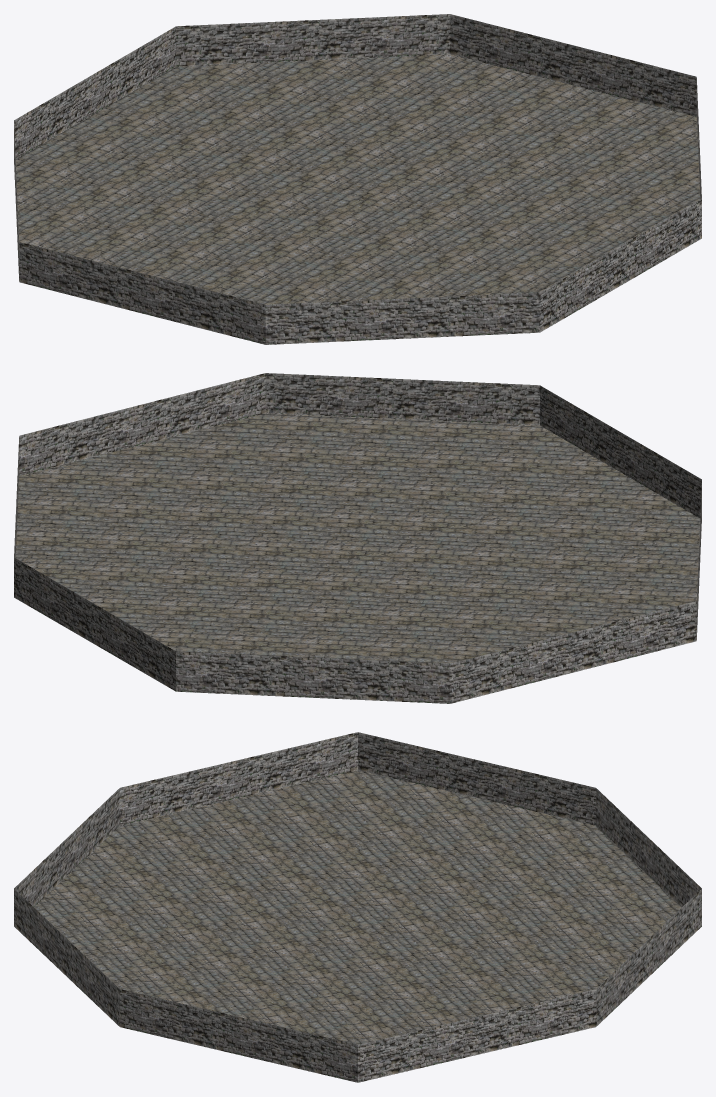
The model's file is Tanah2.fbx.
The picture shows the model from 3 angles, top to bottom: view 1: azimuth 30°, elevation 25°; view 2: azimuth 150°, elevation 25°; view 3: azimuth 270°, elevation 25°; orthographic projection. The views are drawn at different scales.
Visible parts, largest first — view 1: Plane.001, Plane; view 2: Plane.001, Plane; view 3: Plane.001, Plane.
Boxes of the visible parts, <box> form: Plane.001: <box>15,54,700,304</box>; Plane: <box>14,14,701,344</box>; Plane.001: <box>15,413,700,663</box>; Plane: <box>14,373,701,703</box>; Plane.001: <box>34,770,681,1044</box>; Plane: <box>14,732,701,1082</box>.
Bounding box in the file's own units: 7376 × 418 × 6859.
Materials: 2 (2 with a texture image).
